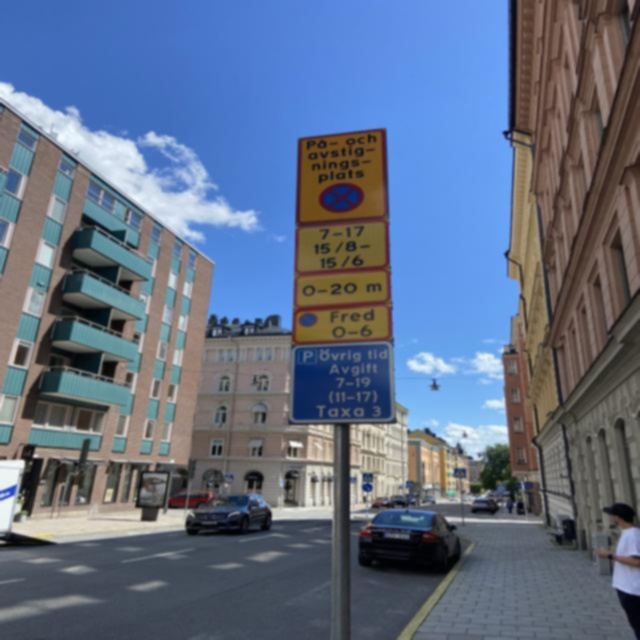avstignnigsplats: (294, 127, 388, 225)
